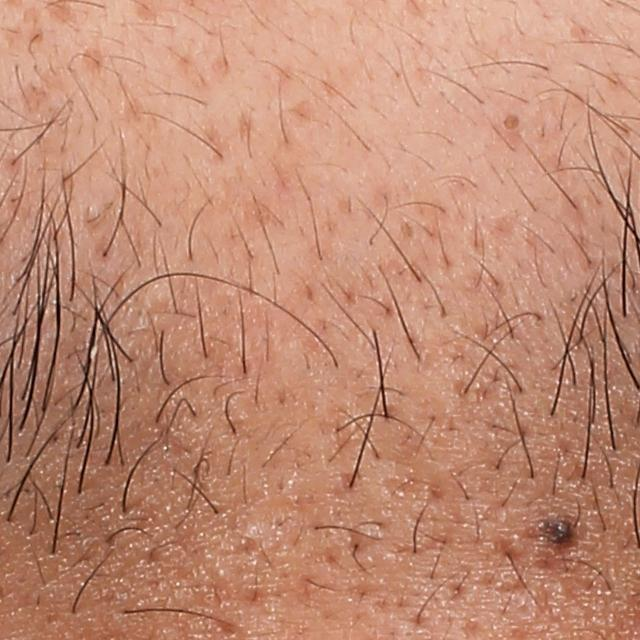nevus: (531, 522, 571, 555)
